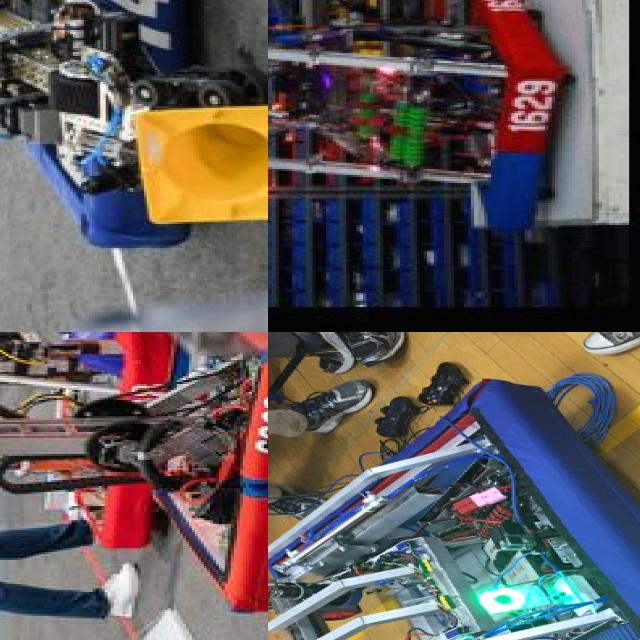FRC-Robots: (268, 392, 640, 640), (0, 0, 268, 266), (268, 0, 551, 222), (0, 332, 268, 552)
